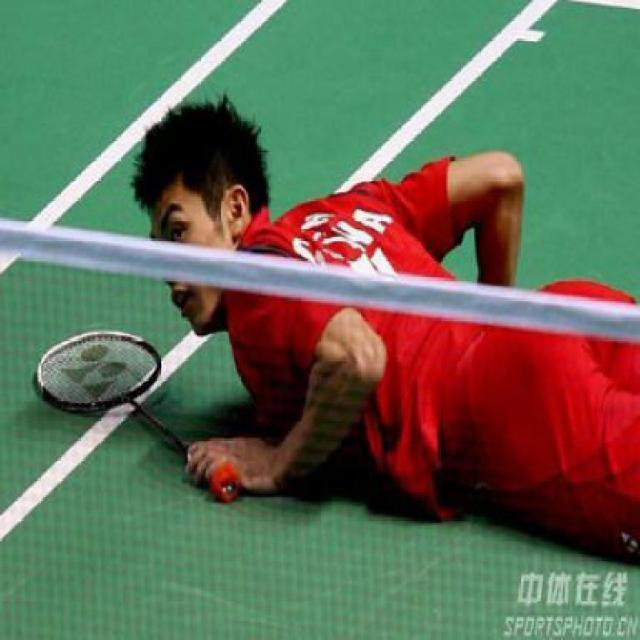fall: (96, 39, 624, 602)
